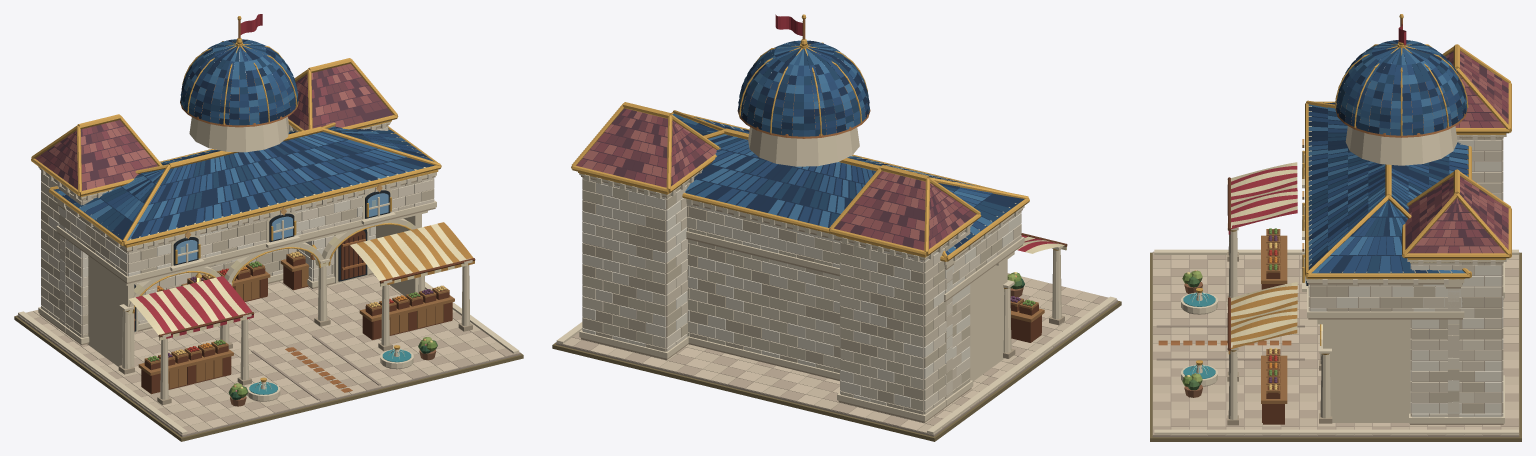
File: market-nivel-9.glb
3 views of the same model, side by side, from view 1: azimuth 30°, elevation 25°; view 2: azimuth 150°, elevation 25°; view 3: azimuth 270°, elevation 25° (orthographic). The views are drawn at different scales.
Parts seen in each view (by area): view 1: Mercado 09 #e6d7ba, Mercado 09 #d5a452, Mercado 09 #20354f, Mercado 09 #dac9af, Mercado 09 #c1af99, Mercado 09 #d3c3a9, Mercado 09 #ded1b9, Mercado 09 #eadbb2, Mercado 09 #2d4d71, Mercado 09 #355c80, Mercado 09 #284763, Mercado 09 #426e90 (+20 smaller); view 2: Mercado 09 #ded1b9, Mercado 09 #eae1ce, Mercado 09 #e6d7ba, Mercado 09 #e8dcc5, Mercado 09 #cec1a8, Mercado 09 #d5a452, Mercado 09 #20354f, Mercado 09 #284763, Mercado 09 #593b44, Mercado 09 #355c80, Mercado 09 #426e90, Mercado 09 #dac9af (+14 smaller); view 3: Mercado 09 #e6d7ba, Mercado 09 #d3c3a9, Mercado 09 #dac9af, Mercado 09 #c1af99, Mercado 09 #d5a452, Mercado 09 #20354f, Mercado 09 #2d4d71, Mercado 09 #ded1b9, Mercado 09 #eae1ce, Mercado 09 #355c80, Mercado 09 #284763, Mercado 09 #cec1a8 (+18 smaller).
Boxes of the visible parts, <box> form: Mercado 09 #e6d7ba: <box>18,116,519,434</box>; Mercado 09 #d5a452: <box>31,16,441,382</box>; Mercado 09 #20354f: <box>62,39,434,240</box>; Mercado 09 #dac9af: <box>33,276,504,428</box>; Mercado 09 #c1af99: <box>26,274,519,435</box>; Mercado 09 #d3c3a9: <box>18,274,505,431</box>; Mercado 09 #ded1b9: <box>41,123,434,334</box>; Mercado 09 #eadbb2: <box>59,121,467,340</box>; Mercado 09 #2d4d71: <box>53,44,433,237</box>; Mercado 09 #355c80: <box>115,39,414,221</box>; Mercado 09 #284763: <box>73,39,423,231</box>; Mercado 09 #426e90: <box>56,40,406,240</box>; Mercado 09 #ded1b9: <box>582,169,1021,414</box>; Mercado 09 #eae1ce: <box>582,179,1021,407</box>; Mercado 09 #e6d7ba: <box>556,127,1116,434</box>; Mercado 09 #e8dcc5: <box>582,177,1013,410</box>; Mercado 09 #cec1a8: <box>582,177,1002,414</box>; Mercado 09 #d5a452: <box>571,14,1060,288</box>; Mercado 09 #20354f: <box>676,40,1024,253</box>; Mercado 09 #284763: <box>686,41,1011,239</box>; Mercado 09 #593b44: <box>582,108,970,247</box>; Mercado 09 #355c80: <box>694,40,990,207</box>; Mercado 09 #426e90: <box>672,45,992,253</box>; Mercado 09 #dac9af: <box>583,276,1099,430</box>; Mercado 09 #e6d7ba: <box>1154,126,1518,435</box>; Mercado 09 #d3c3a9: <box>1153,255,1518,435</box>; Mercado 09 #dac9af: <box>1153,255,1518,435</box>; Mercado 09 #c1af99: <box>1153,251,1518,435</box>; Mercado 09 #d5a452: <box>1196,14,1511,365</box>; Mercado 09 #20354f: <box>1308,40,1467,273</box>; Mercado 09 #2d4d71: <box>1308,40,1468,273</box>; Mercado 09 #ded1b9: <box>1305,133,1506,417</box>; Mercado 09 #eae1ce: <box>1310,140,1503,417</box>; Mercado 09 #355c80: <box>1308,40,1468,273</box>; Mercado 09 #284763: <box>1308,40,1468,273</box>; Mercado 09 #cec1a8: <box>1308,138,1503,416</box>.
Bounding box in the file's own units: 12.79 × 10.76 × 10.82.
